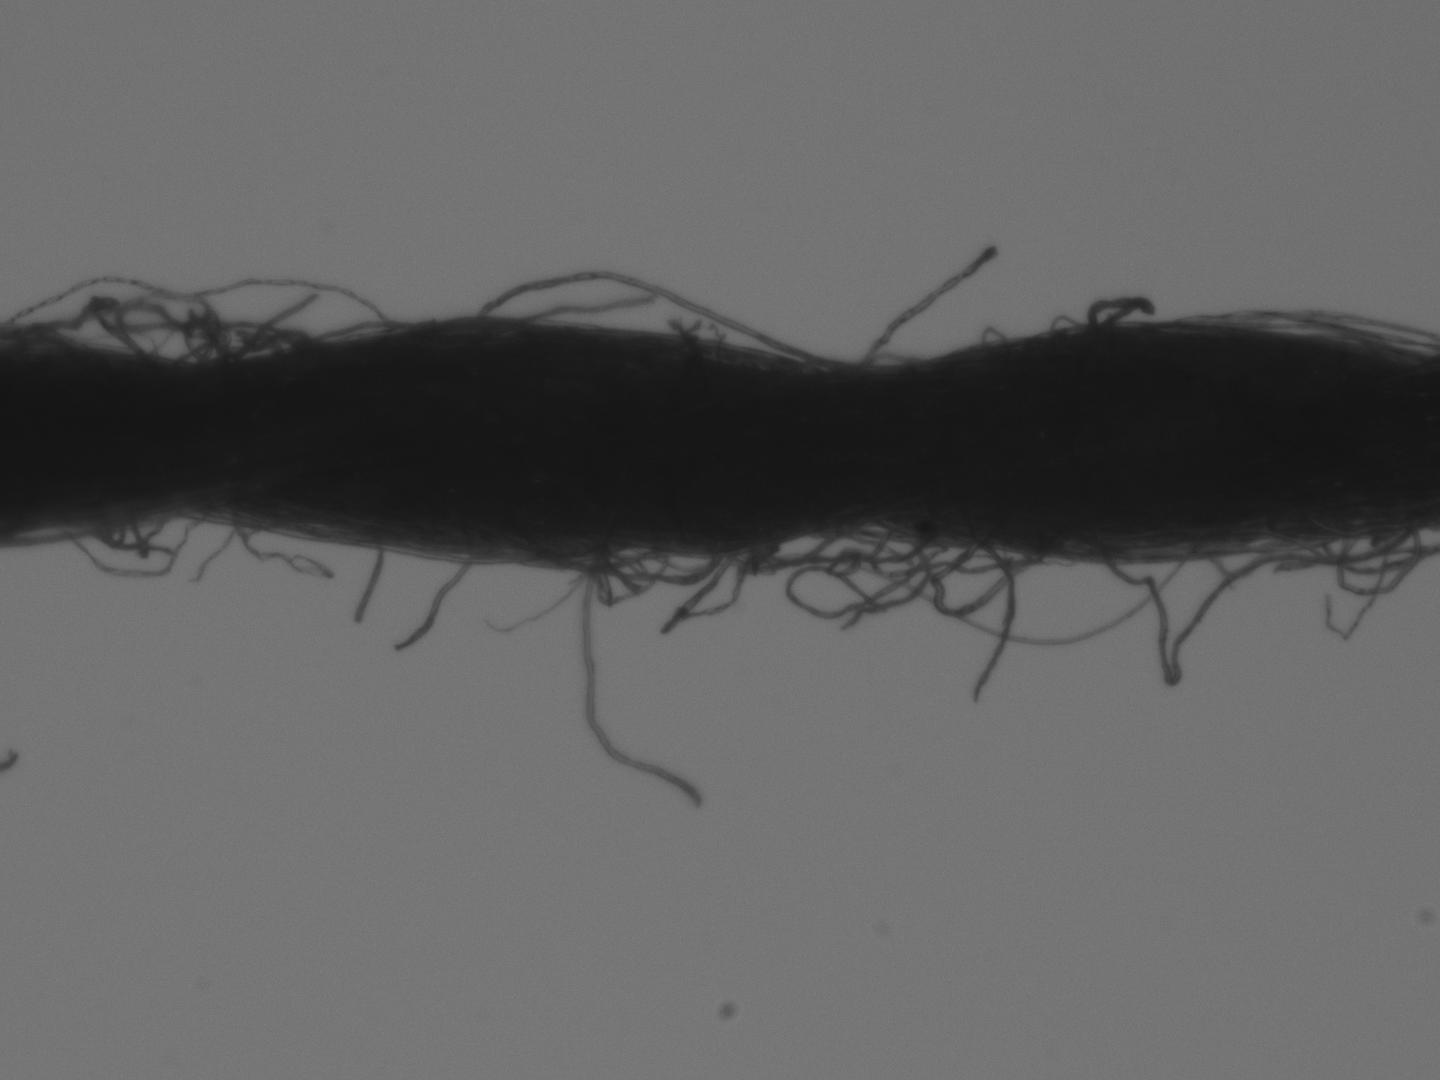loop_fiber: (1099, 530, 1331, 686), (3, 275, 392, 361), (476, 271, 830, 362), (786, 524, 947, 619), (23, 296, 256, 361), (118, 301, 305, 364), (1177, 305, 1425, 349), (910, 531, 1033, 619), (742, 522, 917, 572), (65, 511, 197, 575), (542, 547, 659, 605), (176, 320, 325, 362), (1337, 528, 1415, 596), (1320, 530, 1433, 571), (611, 547, 718, 584), (549, 547, 651, 571), (1087, 295, 1151, 332), (864, 353, 918, 374)
protruding_fiber: (585, 563, 703, 807), (856, 245, 998, 363), (972, 534, 1015, 698), (395, 558, 463, 652), (349, 548, 383, 622)
